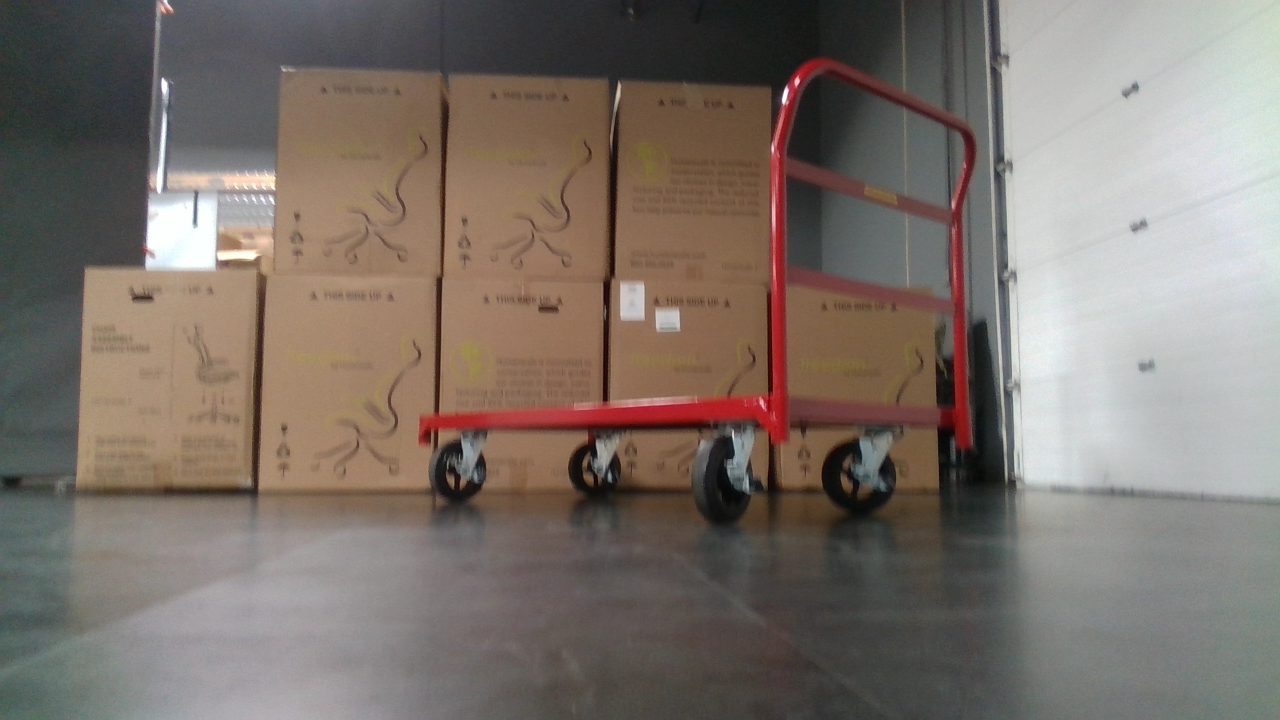Dolly: (417, 56, 978, 530)
Wheel: (689, 431, 757, 528), (819, 435, 899, 514), (428, 436, 490, 503), (566, 438, 623, 497)
